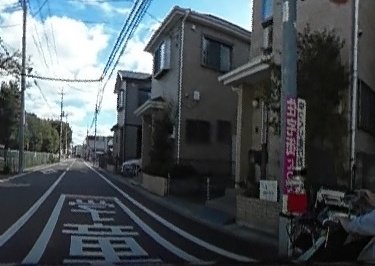person: (329, 91, 375, 261)
